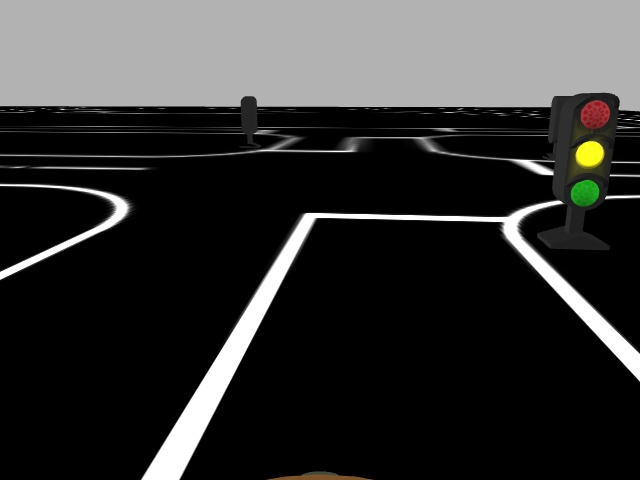yellow_light: (561, 91, 618, 211)
